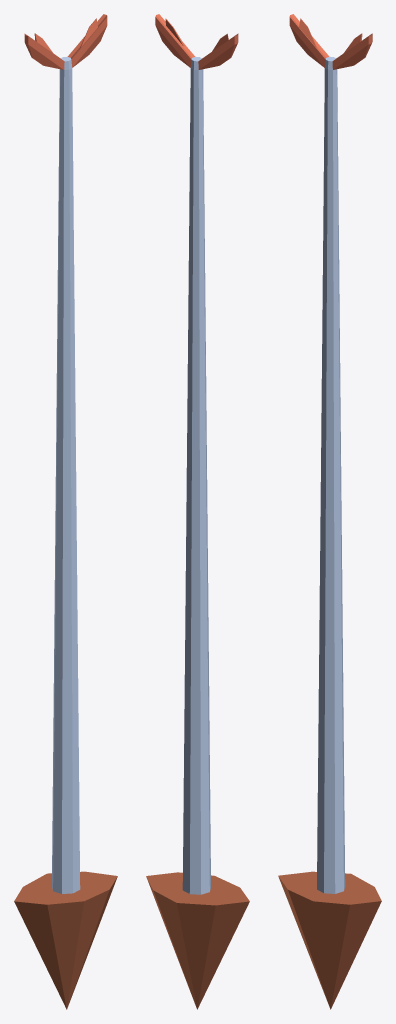
Rendered from Arrow.fbx.
The picture shows the model from 3 angles, left to right: view 1: azimuth 30°, elevation 25°; view 2: azimuth 150°, elevation 25°; view 3: azimuth 330°, elevation 25°; orthographic projection.
Parts seen in each view (by area): view 1: Arrow; view 2: Arrow; view 3: Arrow.
Part boxes in pixels (box(x1,y1,x2,y2)): Arrow: box(14, 14, 117, 1009); Arrow: box(146, 14, 249, 1009); Arrow: box(278, 14, 381, 1009).
Size of the model in its own units: 0.1279 by 1.16 by 0.08.
